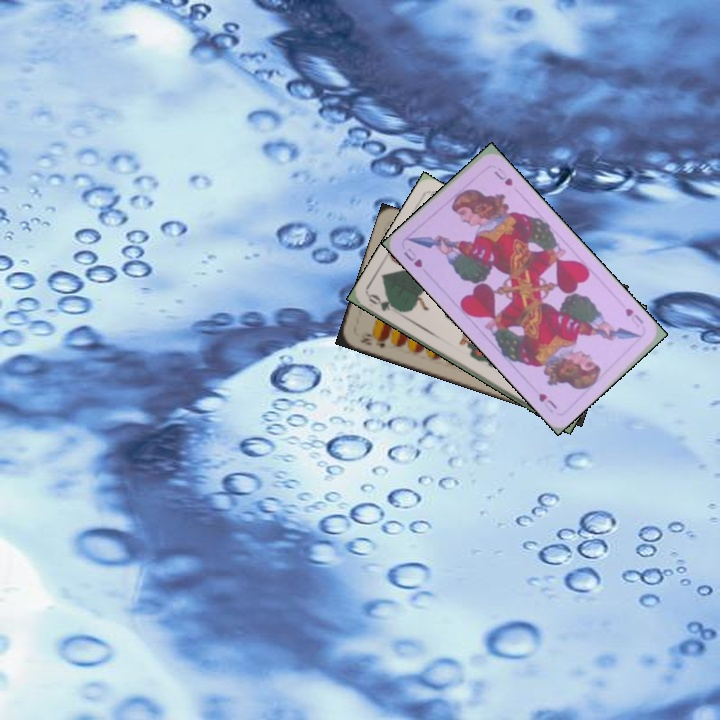E10: (357, 329, 389, 351)
GO: (364, 290, 404, 315)
HU: (399, 244, 425, 270), (621, 304, 646, 326)
